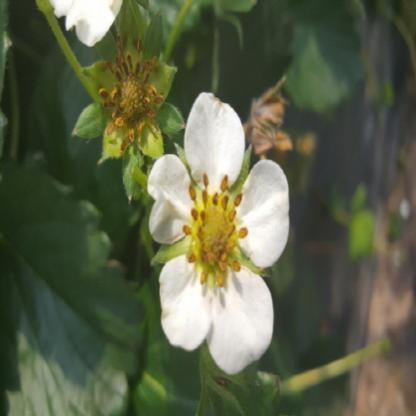Strawberry_Blossom_Blight: (177, 170, 251, 290), (97, 32, 167, 151)
